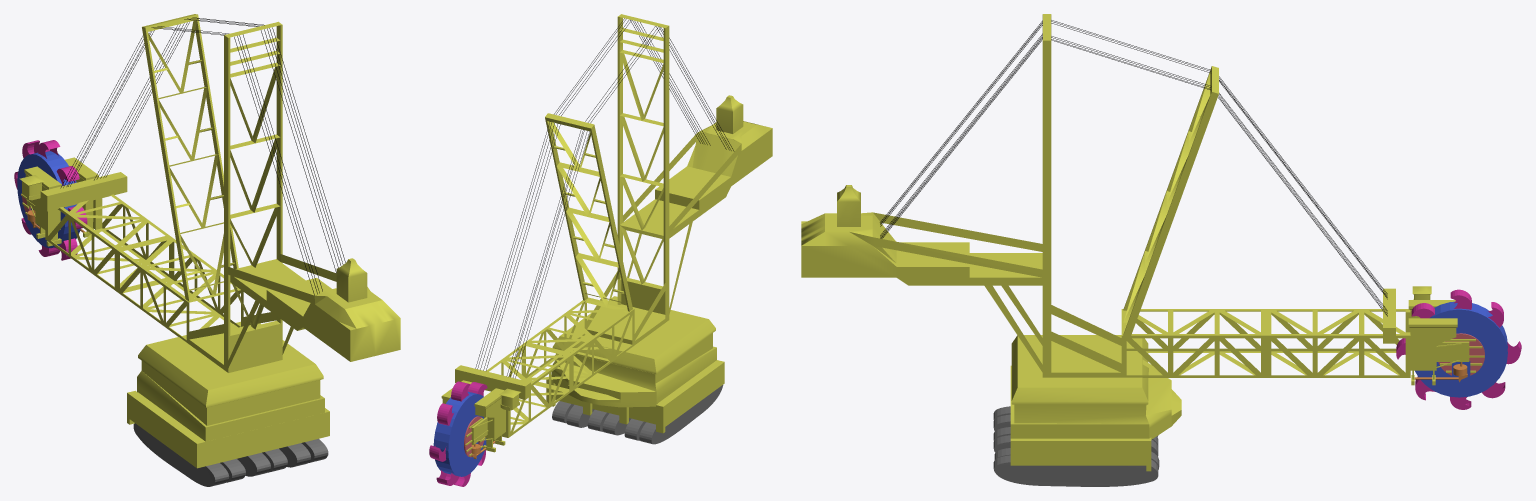
File: Recuperadora.glb
The picture shows the model from 3 angles, left to right: view 1: azimuth 30°, elevation 25°; view 2: azimuth 150°, elevation 25°; view 3: azimuth 270°, elevation 25°; orthographic projection. The views are drawn at different scales.
Parts seen in each view (by area): view 1: Cube.022, Cube.003, Cube.030, Cube.031, Cube.032, Cylinder, BezierCurve.013, Cube.017, BezierCurve.010, Cube.018, BezierCurve.009, Kabine; view 2: Cube.022, Cube.003, Cube.030, Cube.031, Cylinder, BezierCurve.013, Cube.032, Cube.017, BezierCurve.009, BezierCurve.010; view 3: Cube.022, Cube.003, Cube.030, Cylinder, Cube.031, BezierCurve.001, Cube.018.
Part boxes in pixels (x1,y1,x2,y2): Cube.022: (45, 21, 400, 372); Cube.003: (137, 321, 324, 441); Cube.030: (142, 14, 238, 301); Cube.031: (127, 390, 329, 468); Cube.032: (40, 172, 127, 211); Cylinder: (17, 151, 80, 248); BezierCurve.013: (133, 423, 229, 486); Cube.017: (24, 166, 61, 229); BezierCurve.010: (237, 452, 270, 476); Cube.018: (65, 157, 98, 222); BezierCurve.009: (279, 443, 310, 467); Kabine: (19, 175, 44, 200); Cube.022: (486, 14, 772, 437); Cube.003: (551, 296, 716, 407); Cube.030: (545, 113, 632, 312); Cube.031: (546, 360, 724, 433); Cylinder: (433, 391, 486, 476); BezierCurve.013: (639, 385, 723, 444); Cube.032: (455, 365, 530, 399); Cube.017: (474, 388, 505, 440); BezierCurve.009: (566, 404, 594, 427); BezierCurve.010: (602, 413, 631, 435); Cube.022: (801, 14, 1410, 377); Cube.003: (1010, 335, 1181, 439); Cube.030: (1123, 66, 1218, 335); Cylinder: (1415, 301, 1507, 397); Cube.031: (1010, 437, 1151, 471); BezierCurve.001: (993, 455, 1158, 486); Cube.018: (1408, 318, 1457, 370).
Size of the model in its own units: 3.63 by 11.3 by 16.9.
